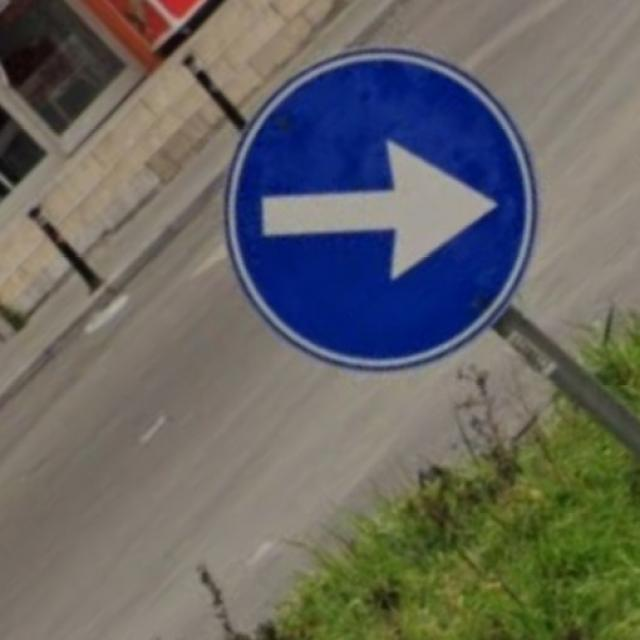Turn Right: (213, 36, 537, 373)
